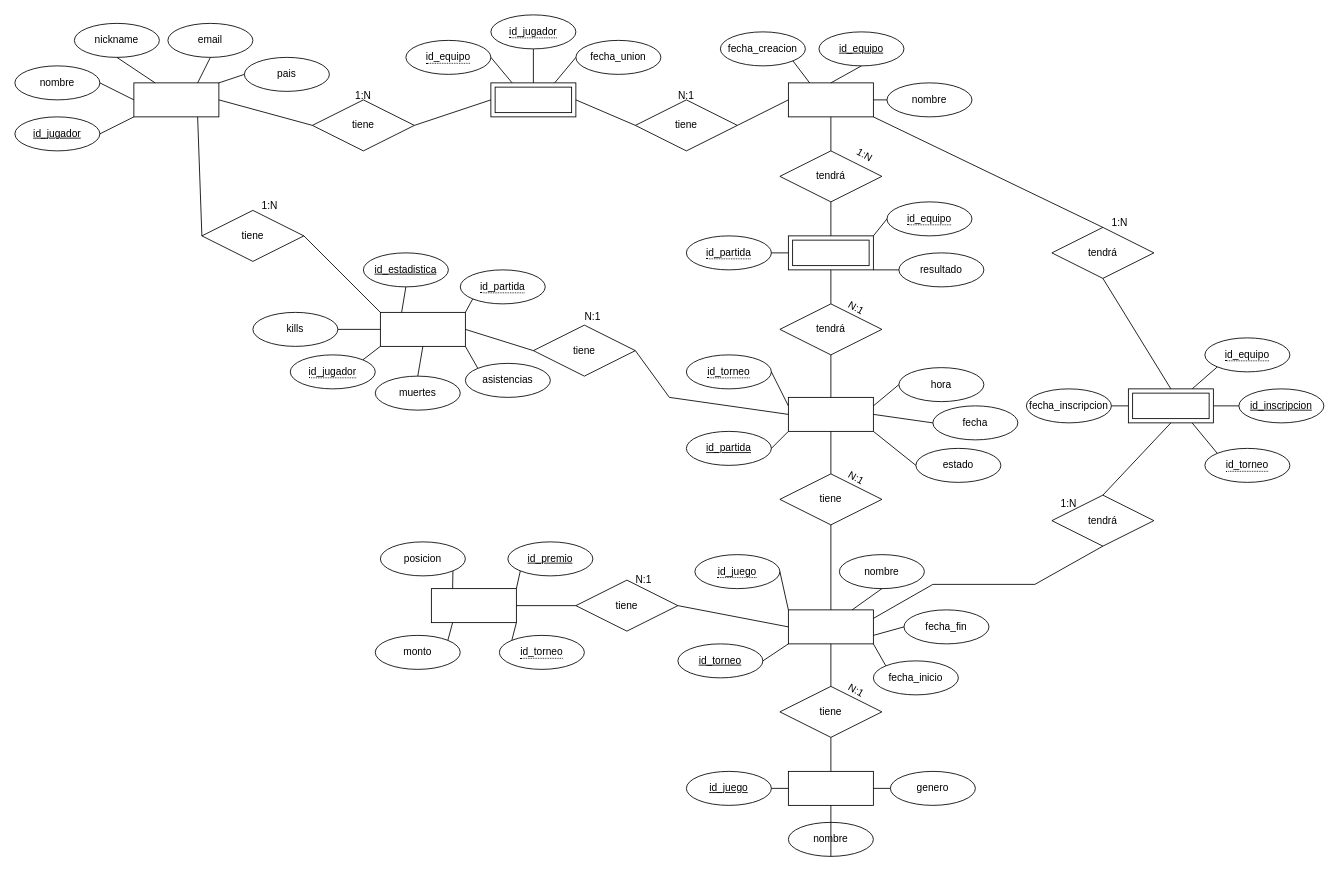
This 1339x872 diagram has some shape labels left out. The shapes that lost their labels are listed below. From the top down, each one's centre as x and y in pixels, then its label:
[176,99]: Jugador
[533,99]: jugador_equipo
[830,99]: Equipo
[830,252]: participacion
[422,329]: Estadistica
[830,414]: Partida
[1170,405]: Inscripcion
[473,605]: premio
[830,626]: Torneo
[830,788]: Juego
